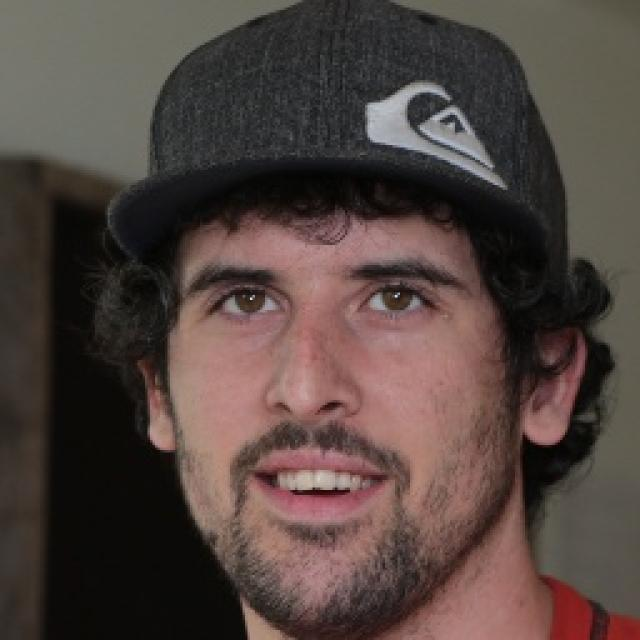earlobe: (522, 301, 590, 445), (133, 337, 178, 455)
